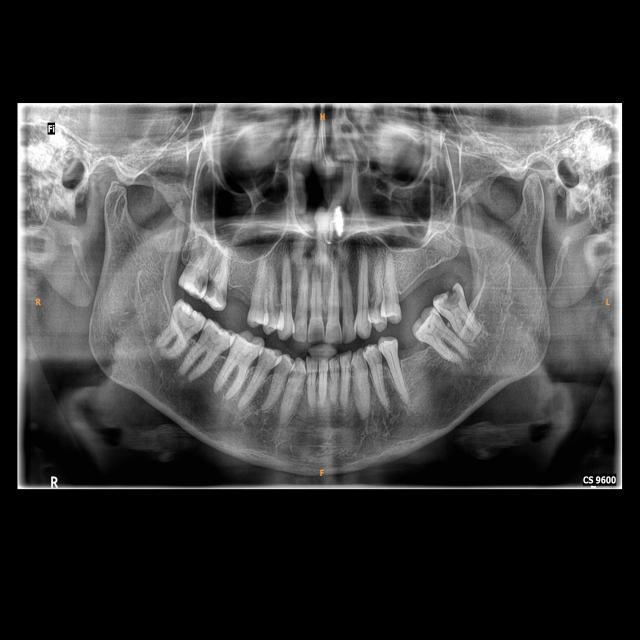dentin-curugu: (439, 286, 464, 311), (196, 273, 218, 298)
